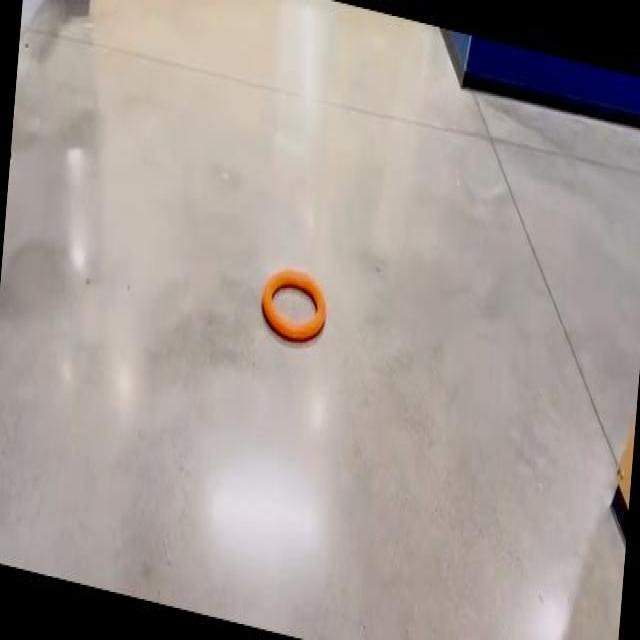note: (261, 267, 326, 340)
